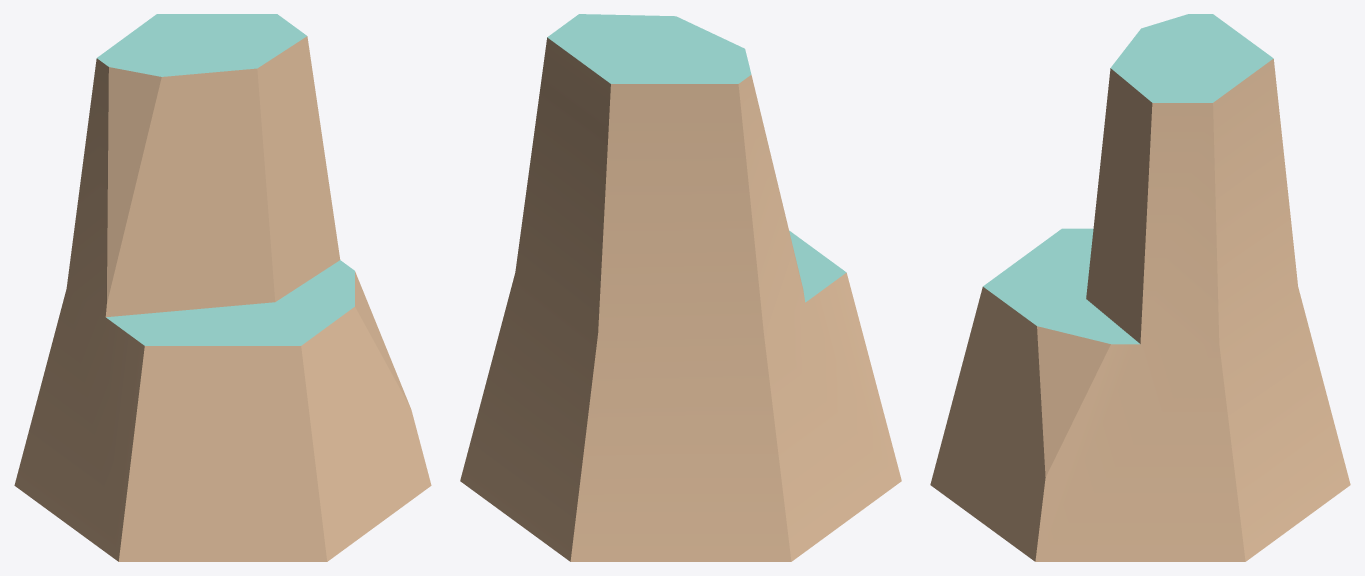
Rendered from rock_tall6.glb.
3 renders of one model, left to right at view 1: azimuth 30°, elevation 25°; view 2: azimuth 150°, elevation 25°; view 3: azimuth 270°, elevation 25°, orthographic. The views are drawn at different scales.
Visible parts, largest first — view 1: rock_tall6; view 2: rock_tall6; view 3: rock_tall6.
Part boxes in pixels (x1,y1,x2,y2): rock_tall6: [14, 14, 431, 561]; rock_tall6: [460, 14, 901, 561]; rock_tall6: [930, 14, 1350, 561].
Bounding box in the file's own units: 0.4437 × 0.5737 × 0.5123.
